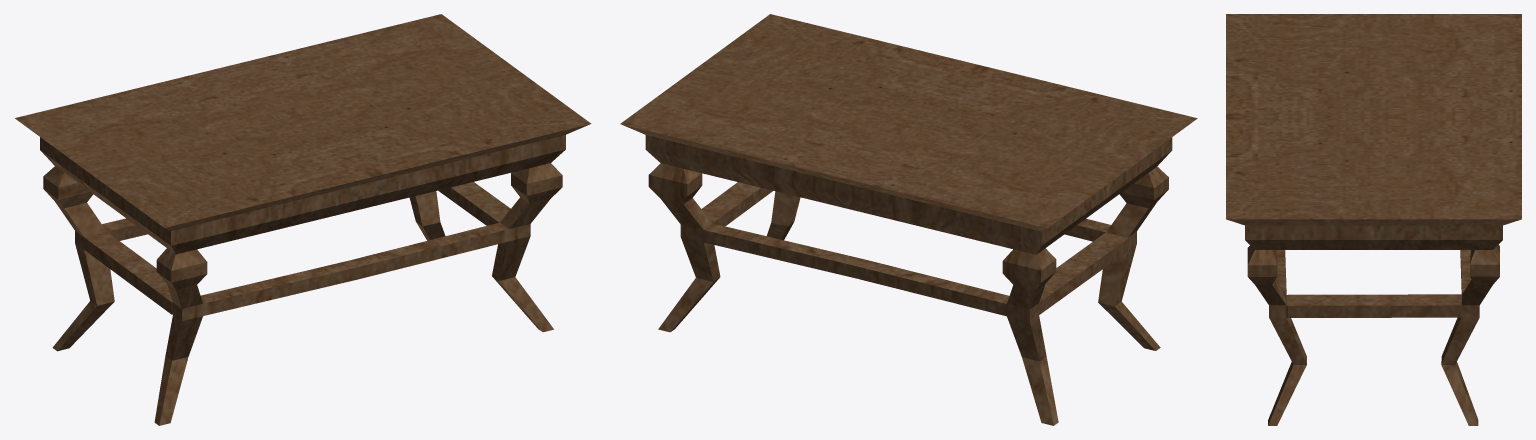
File: table.fbx
The picture shows the model from 3 angles, left to right: view 1: azimuth 30°, elevation 25°; view 2: azimuth 150°, elevation 25°; view 3: azimuth 270°, elevation 25°; orthographic projection.
Parts seen in each view (by area): view 1: Cube; view 2: Cube; view 3: Cube.
Boxes of the visible parts, x1,y1,x2,y2 form: Cube: (15,14,591,425); Cube: (620,14,1197,425); Cube: (1226,14,1521,425).
Size of the model in its own units: 156 by 75.9 by 94.95.
1 material, 1 textured.
